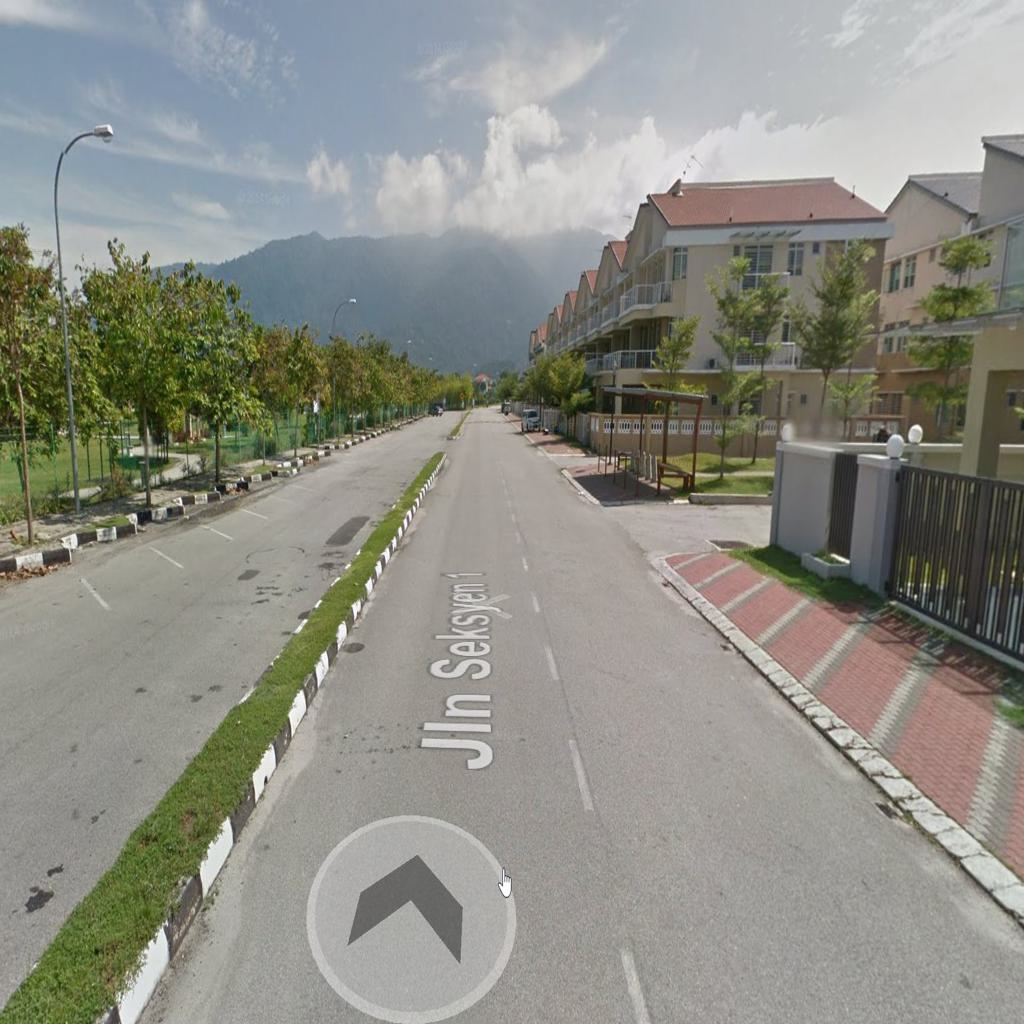Junction: (541, 474, 770, 574)
